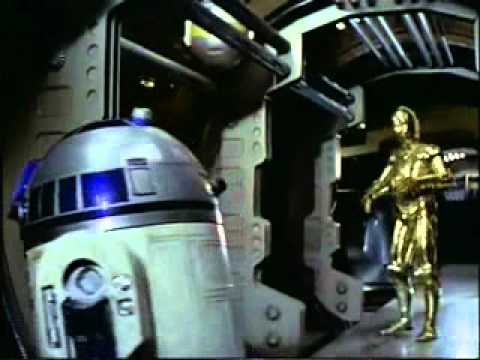r2d2: (7, 108, 243, 358)
